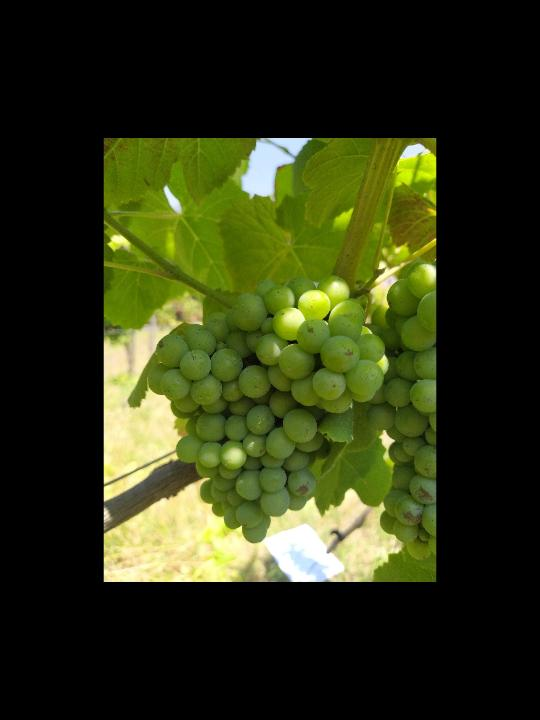grape: (149, 274, 392, 544)
